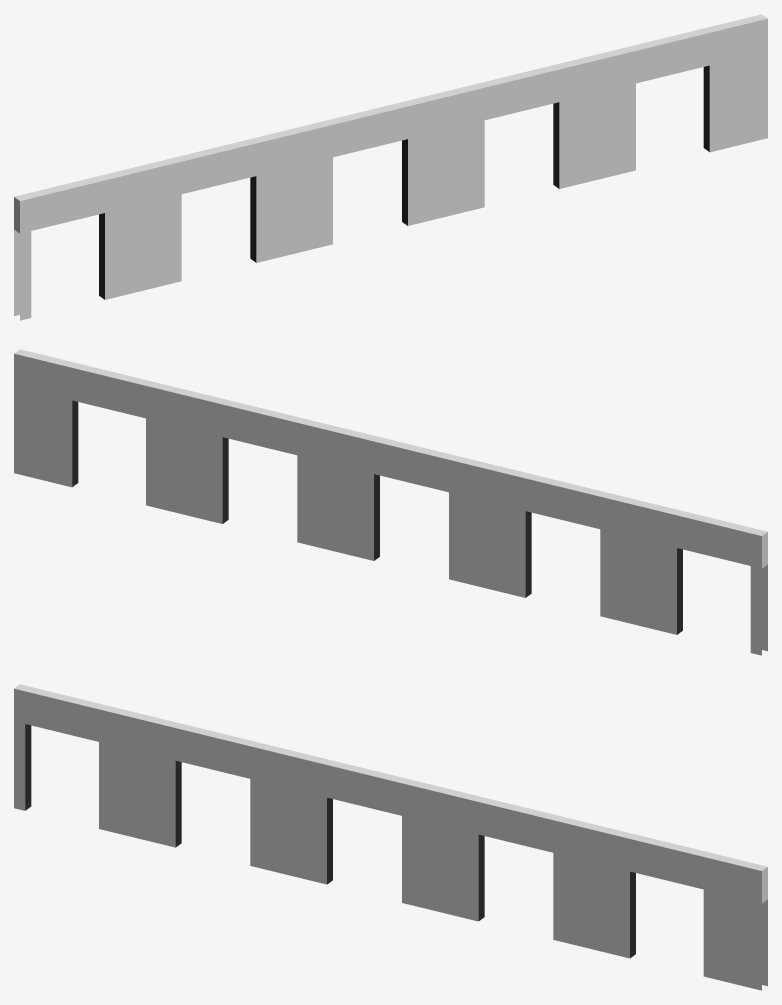
Rendered from Hall_03_Fill.fbx.
3 renders of one model, top to bottom at view 1: azimuth 30°, elevation 25°; view 2: azimuth 150°, elevation 25°; view 3: azimuth 330°, elevation 25°, orthographic.
Parts seen in each view (by area): view 1: Hall_03_Fill; view 2: Hall_03_Fill; view 3: Hall_03_Fill.
Part boxes in pixels (x1,y1,x2,y2): Hall_03_Fill: [14, 14, 767, 320]; Hall_03_Fill: [14, 349, 767, 655]; Hall_03_Fill: [14, 684, 767, 990].
Bounding box in the file's own units: 7200 × 1100 × 100.
